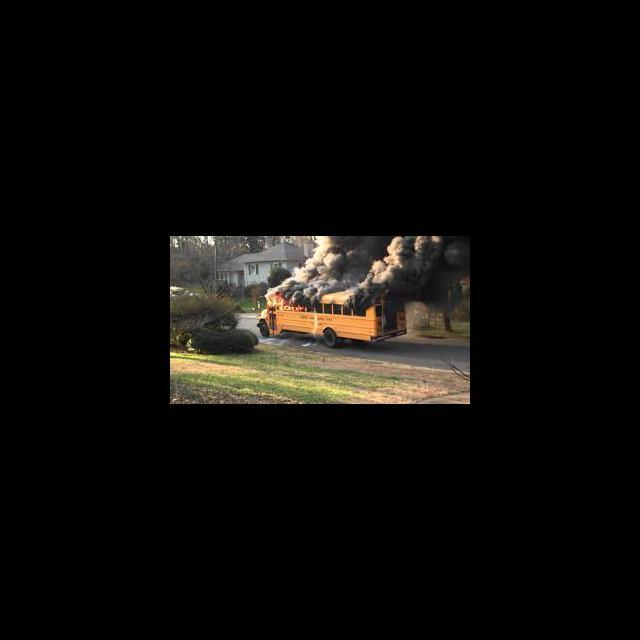Fire: (266, 293, 306, 317)
Smoke: (285, 237, 466, 300)
